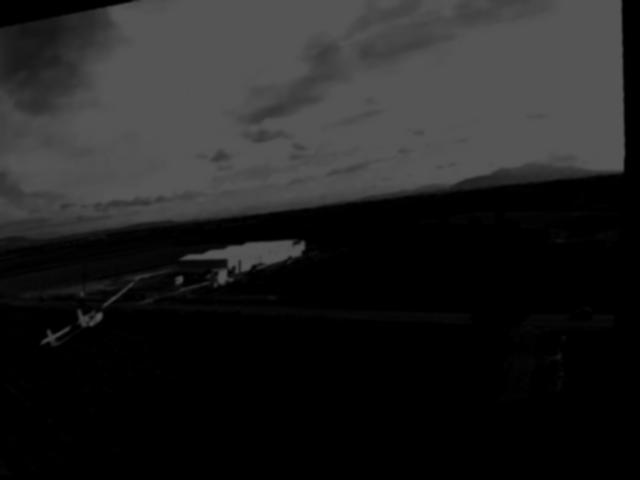hedef: (38, 276, 152, 356)
